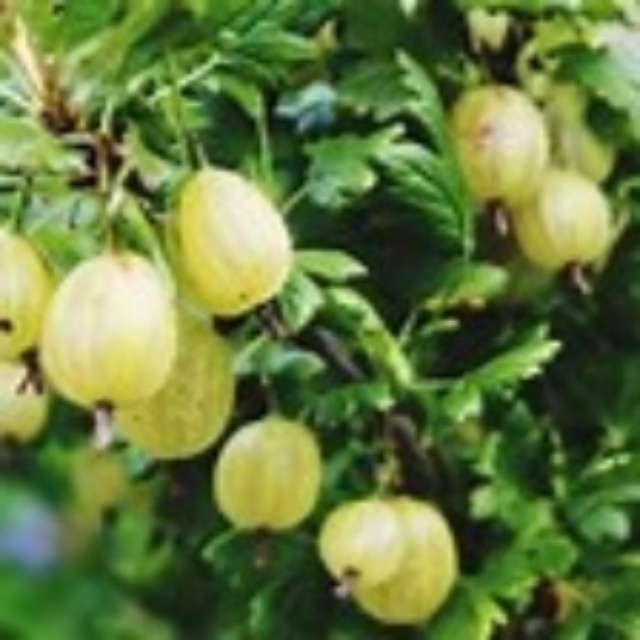kiwi: (50, 248, 236, 458), (449, 88, 612, 280), (321, 499, 467, 617), (184, 167, 292, 318), (212, 418, 338, 538)
